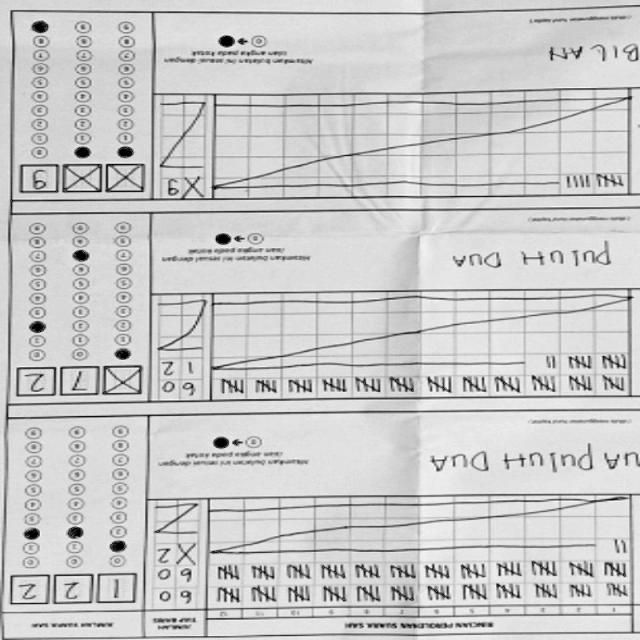Suara: (10, 573, 142, 612), (16, 362, 147, 400), (19, 161, 147, 197)
